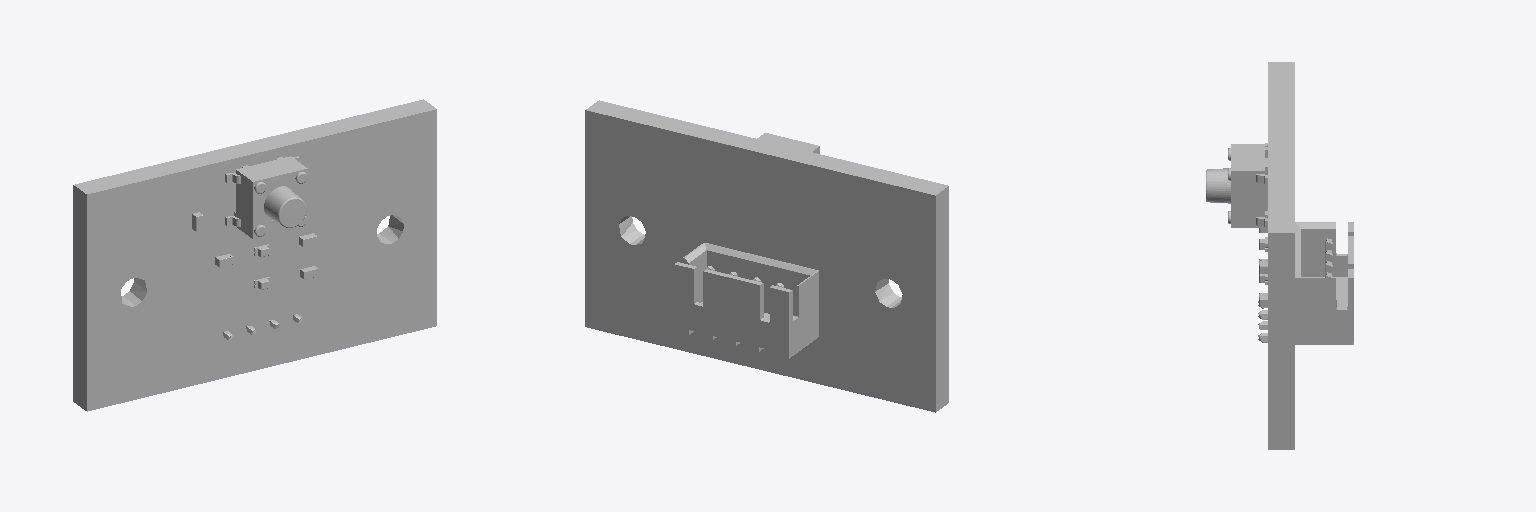
Rendered from OBJ_PCB_wifi iot module.obj.
The picture shows the model from 3 angles: view 1: azimuth 30°, elevation 25°; view 2: azimuth 150°, elevation 25°; view 3: azimuth 270°, elevation 25°; orthographic projection.
Size of the model in its own units: 151 by 89.3 by 55.47.